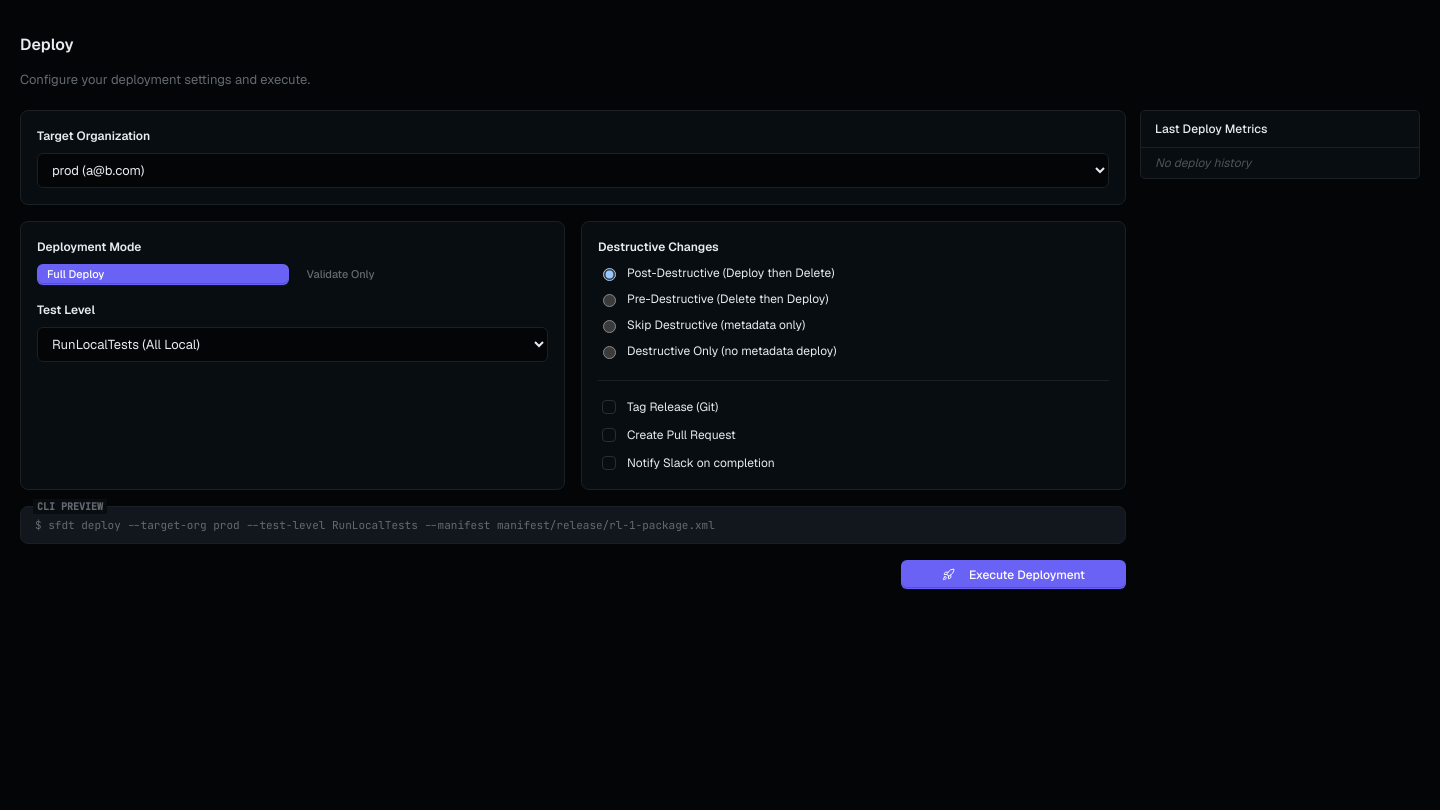
Test: DeployStep validation banner › does not render the banner while the stream is still running
Click the button "Validate Only" at (422, 274), box [296,264,548,285]
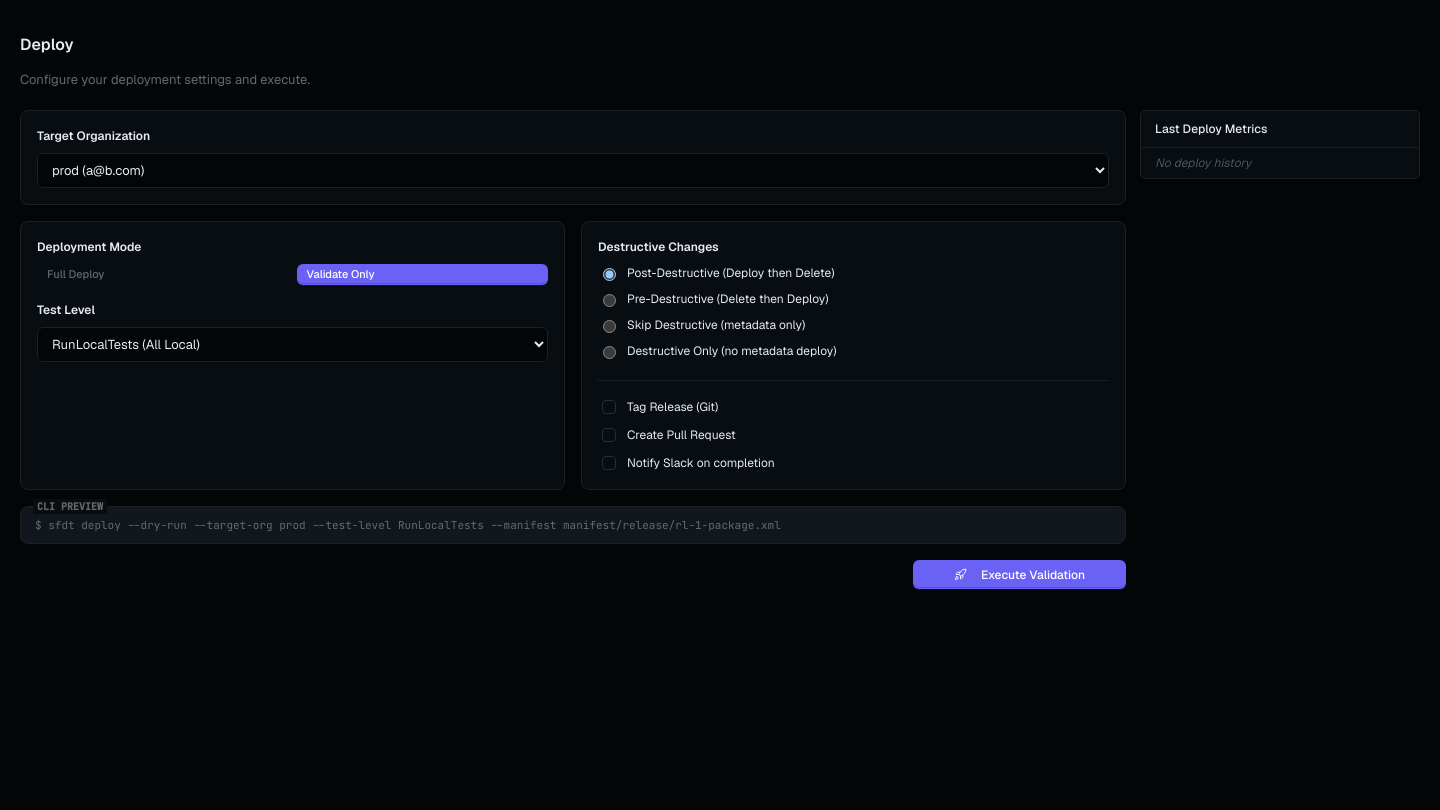
Click the button "Execute Validation" at (1020, 575), box [913,560,1126,589]
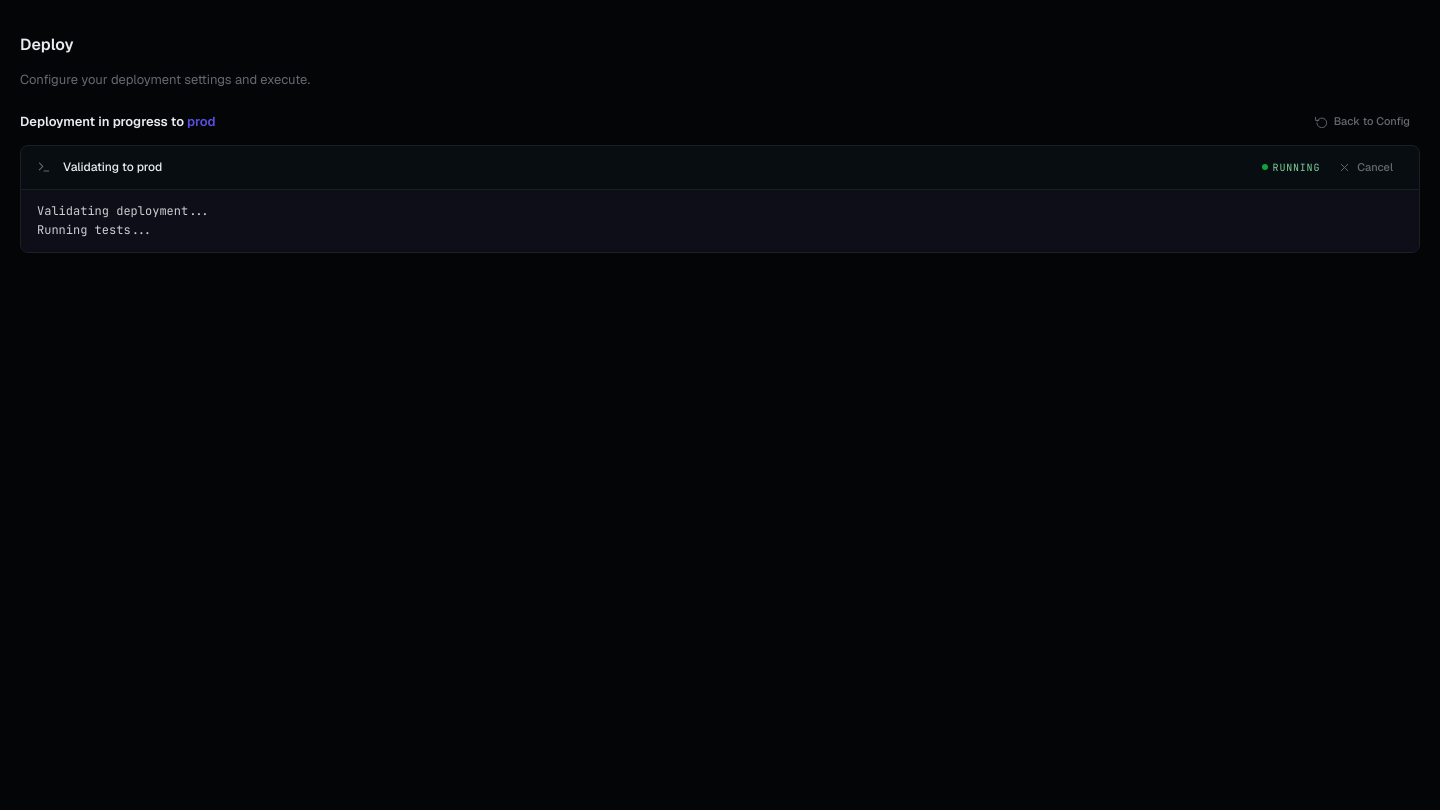
expect the text "Running tests..." is shown: met, box [37,222,152,238]
